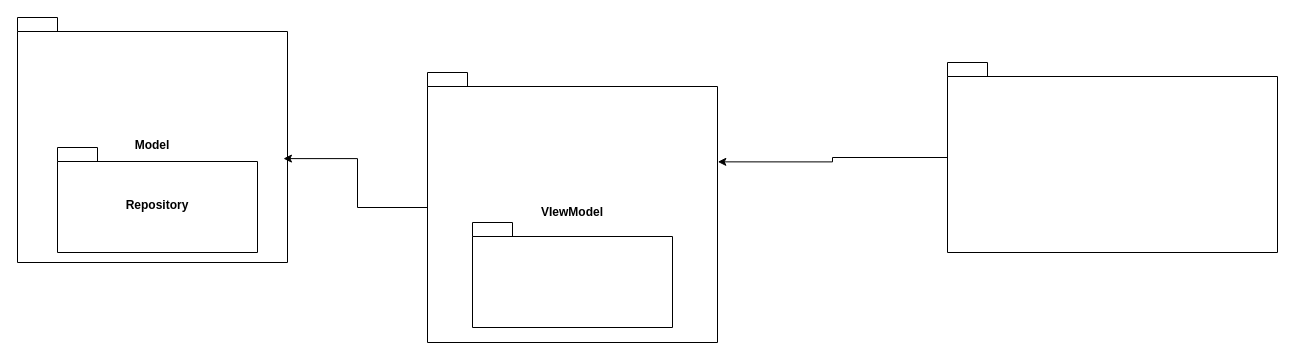
Some shapes in this 1295 by 360 pixel diagram are drawn without their labels. The centre of each missing label's shape, as x and y in pixels:
"Commands" goes at (x=572, y=275).
"VIew" goes at (x=1112, y=157).
